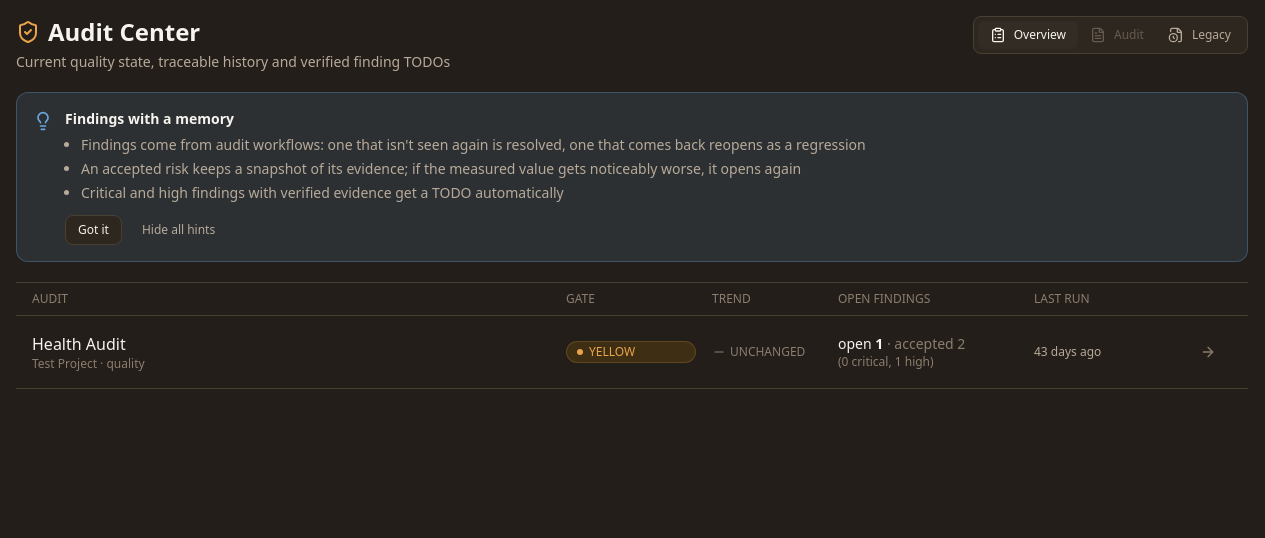
Scenario: AuditCenter report head › says so when the text of the shown report cannot be loaded, instead of an empty report
Click the text "Health Audit". click: (79, 344)
box: [32,333,126,355]
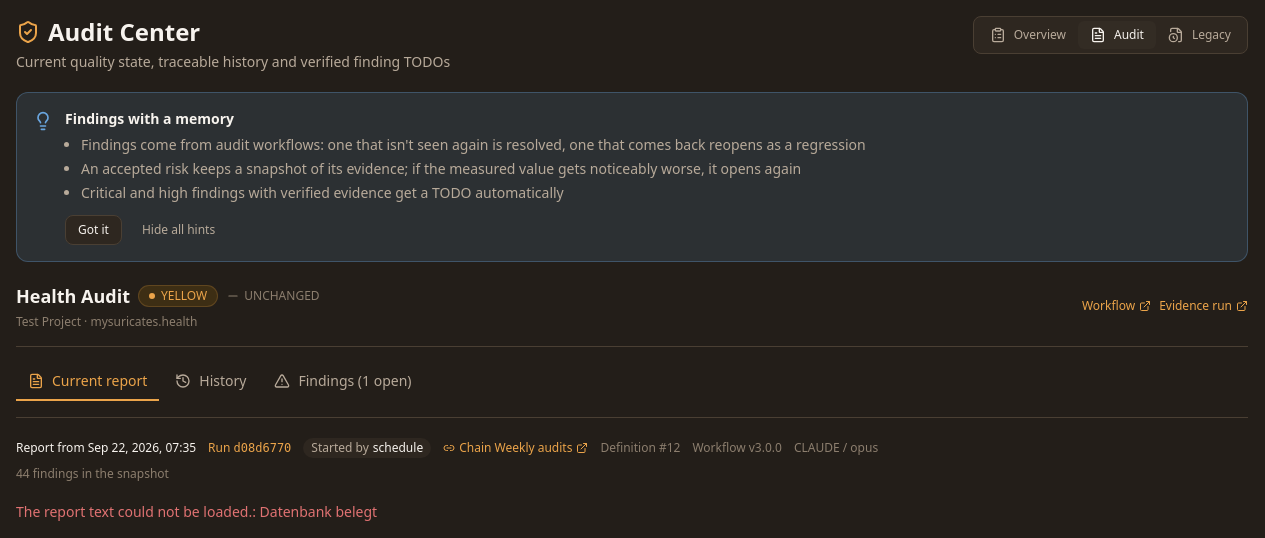
Expected: the message with test id "report-text-error" reads "The report text could not be loaded.: Datenbank belegt", [16,502,377,521]
Expected: the element with test id "report-origin" is shown, [16,438,878,482]
